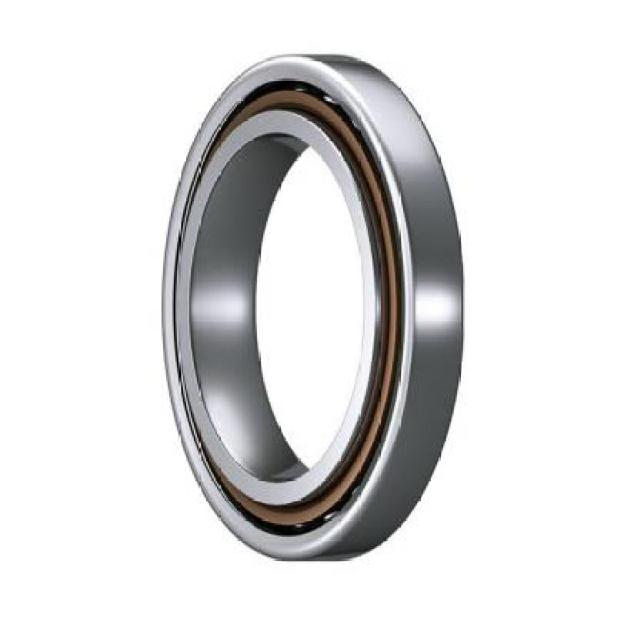Bearing: (159, 49, 466, 562)
